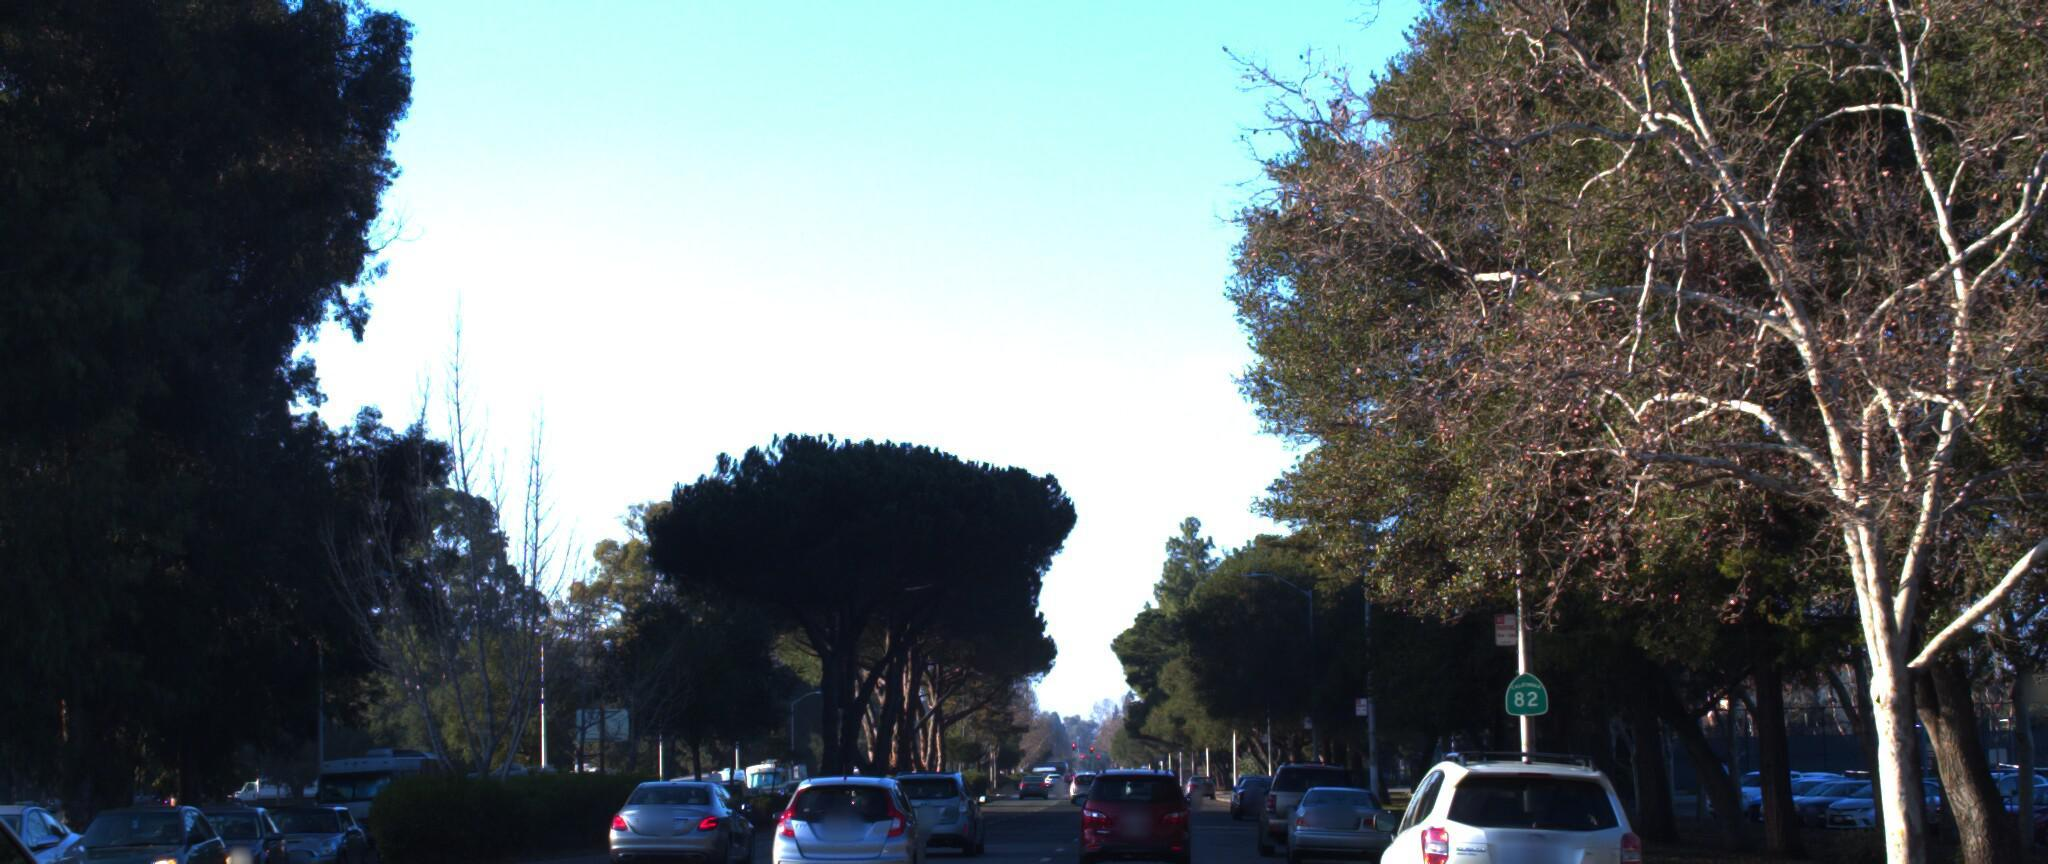car: (0, 696, 293, 864), (1352, 724, 1663, 864), (768, 752, 933, 864), (40, 786, 240, 864), (603, 760, 751, 864), (1273, 743, 1394, 856), (1058, 754, 1179, 857), (1243, 737, 1360, 842), (138, 790, 300, 864), (240, 784, 387, 864), (875, 749, 987, 842), (0, 790, 104, 864)
